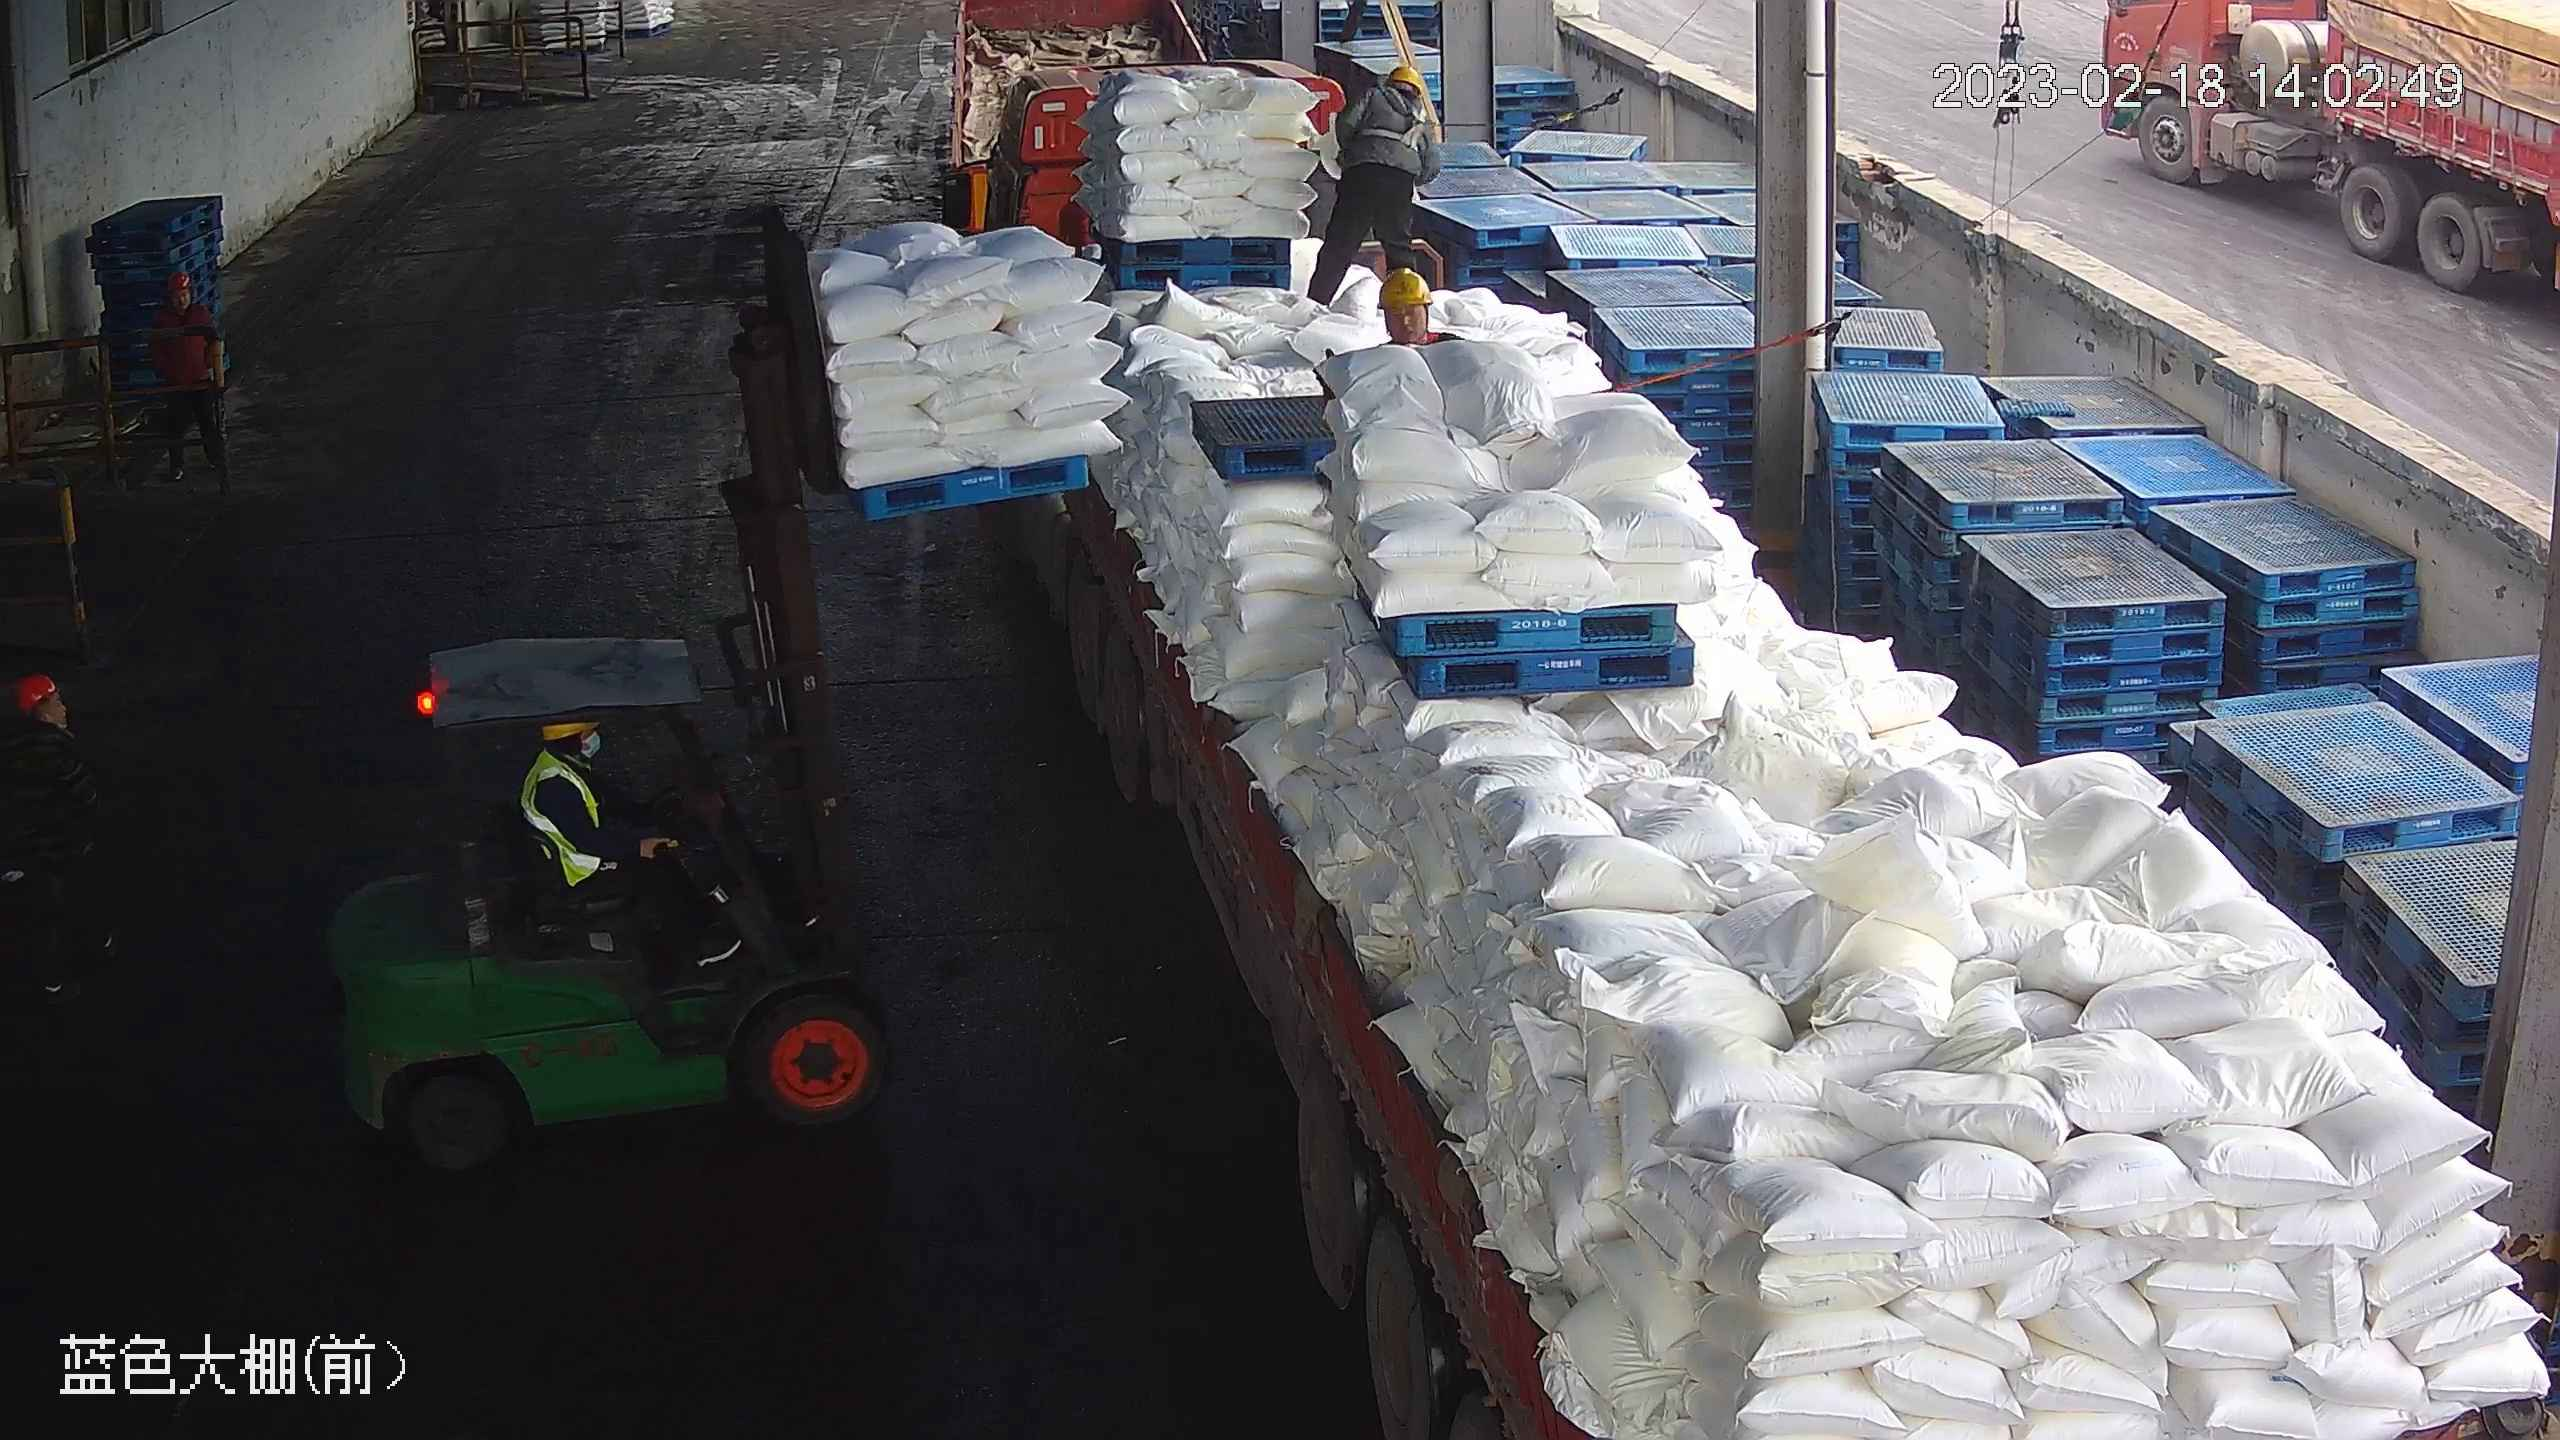belt: (1353, 86, 1438, 141)
head: (4, 672, 95, 779), (525, 714, 614, 815), (1348, 62, 1436, 126), (158, 270, 217, 329)
helmet: (1375, 265, 1435, 311), (1382, 60, 1430, 98), (13, 671, 59, 707), (164, 274, 193, 292)
people: (520, 707, 729, 961), (3, 669, 124, 996), (1304, 60, 1444, 308), (149, 272, 235, 495)
truck: (976, 125, 2559, 1439)
